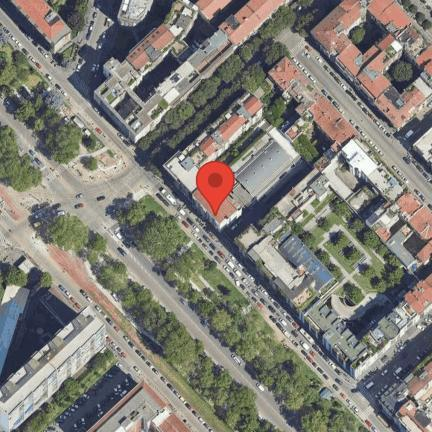area_open: (332, 251, 414, 331), (304, 193, 380, 279), (9, 285, 73, 374), (56, 372, 135, 432)
built: (91, 0, 284, 139), (317, 0, 432, 130), (0, 302, 108, 432), (188, 121, 307, 229), (235, 207, 338, 313), (322, 134, 412, 223), (179, 92, 269, 175), (273, 57, 359, 143), (301, 297, 379, 379), (90, 378, 194, 432), (371, 189, 432, 270), (372, 272, 432, 346), (377, 353, 432, 432), (9, 0, 78, 53), (0, 282, 31, 375)
vegetation_high: (119, 193, 375, 432), (45, 205, 288, 432), (135, 0, 339, 170), (0, 33, 88, 166), (20, 351, 122, 432), (0, 118, 47, 191), (60, 0, 97, 34)
